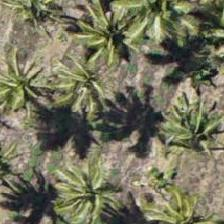coconut_tree: (43, 43, 133, 133), (62, 0, 152, 78), (40, 148, 130, 223), (0, 49, 62, 139), (116, 0, 206, 52)
